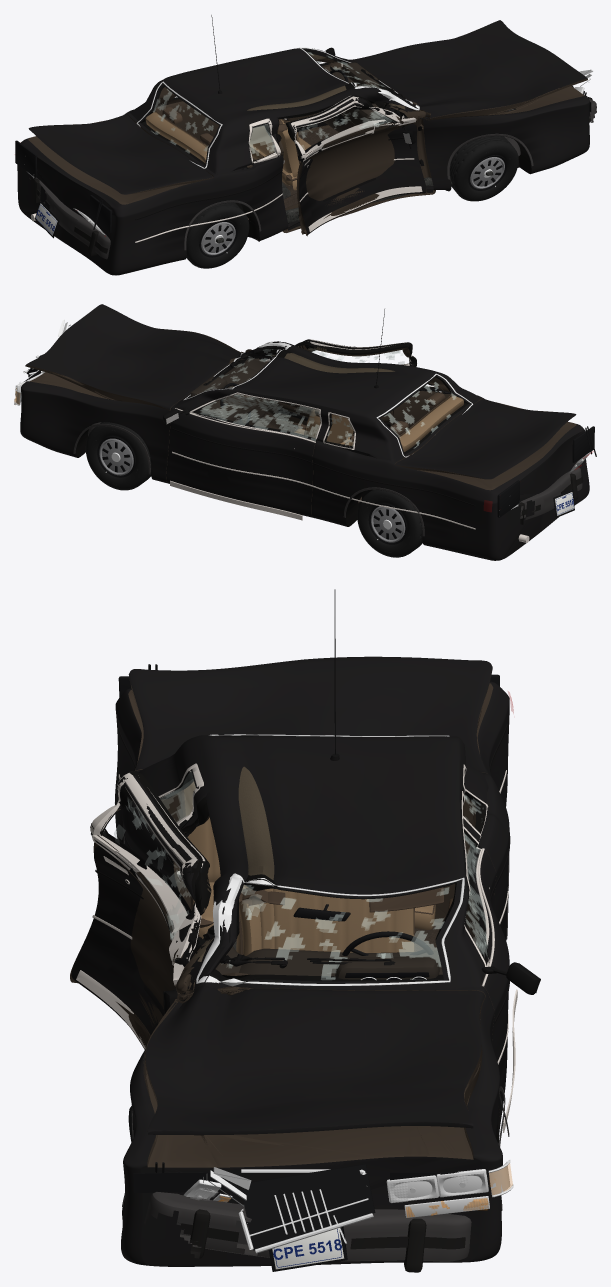
Rendered from coupe84_side_R_d2.glb.
3 renders of one model, top to bottom at view 1: azimuth 30°, elevation 25°; view 2: azimuth 150°, elevation 25°; view 3: azimuth 270°, elevation 25°, orthographic. The views are drawn at different scales.
Parts seen in each view (by area): view 1: Body, Hood, Door_FR, Trunk, Interior, Wheel_FR_mesh, Wheel_RR_mesh, Trim_FR, Glass, Trim, Ends, Bumper_R (+3 smaller); view 2: Body, Hood, Door_FL, Trunk, Interior, Wheel_RL_mesh, Wheel_FL_mesh, Glass_FL, Trim_FL, Ends, Glass, Trim (+4 smaller); view 3: Body, Hood, Trunk, Ends, Interior, Door_FR, Bumper_F, Glass, Trim_FR, Door_FL, Trim, Trim_FL (+2 smaller).
Boxes of the visible parts, x1,y1,x2,y2 form: Body: [17, 48, 589, 275]; Hood: [352, 20, 587, 119]; Door_FR: [286, 95, 427, 236]; Trunk: [28, 114, 213, 194]; Interior: [145, 62, 407, 190]; Wheel_FR_mesh: [450, 136, 518, 201]; Wheel_RR_mesh: [186, 202, 249, 268]; Trim_FR: [291, 96, 422, 231]; Glass: [136, 47, 419, 168]; Trim: [135, 15, 533, 250]; Ends: [15, 69, 593, 238]; Bumper_R: [29, 177, 110, 259]; Body: [20, 341, 589, 560]; Hood: [25, 304, 243, 410]; Door_FL: [166, 392, 322, 517]; Trunk: [395, 398, 576, 479]; Interior: [190, 358, 463, 451]; Wheel_RL_mesh: [357, 489, 422, 557]; Wheel_FL_mesh: [85, 422, 151, 490]; Glass_FL: [193, 392, 322, 442]; Trim_FL: [163, 392, 321, 520]; Ends: [14, 319, 596, 517]; Glass: [183, 341, 472, 457]; Trim: [73, 309, 475, 536]; Body: [115, 681, 509, 1266]; Hood: [145, 985, 485, 1135]; Trunk: [128, 656, 492, 773]; Ends: [118, 664, 513, 1271]; Interior: [181, 781, 443, 980]; Door_FR: [70, 771, 211, 1049]; Bumper_F: [144, 1192, 471, 1272]; Glass: [159, 734, 487, 986]; Trim_FR: [76, 773, 205, 1048]; Door_FL: [461, 790, 509, 1125]; Trim: [118, 589, 510, 1210]; Trim_FL: [448, 791, 540, 1132].
Size of the model in its own units: 5.35 by 2.05 by 2.07.
Materials: 34 (5 with a texture image).
